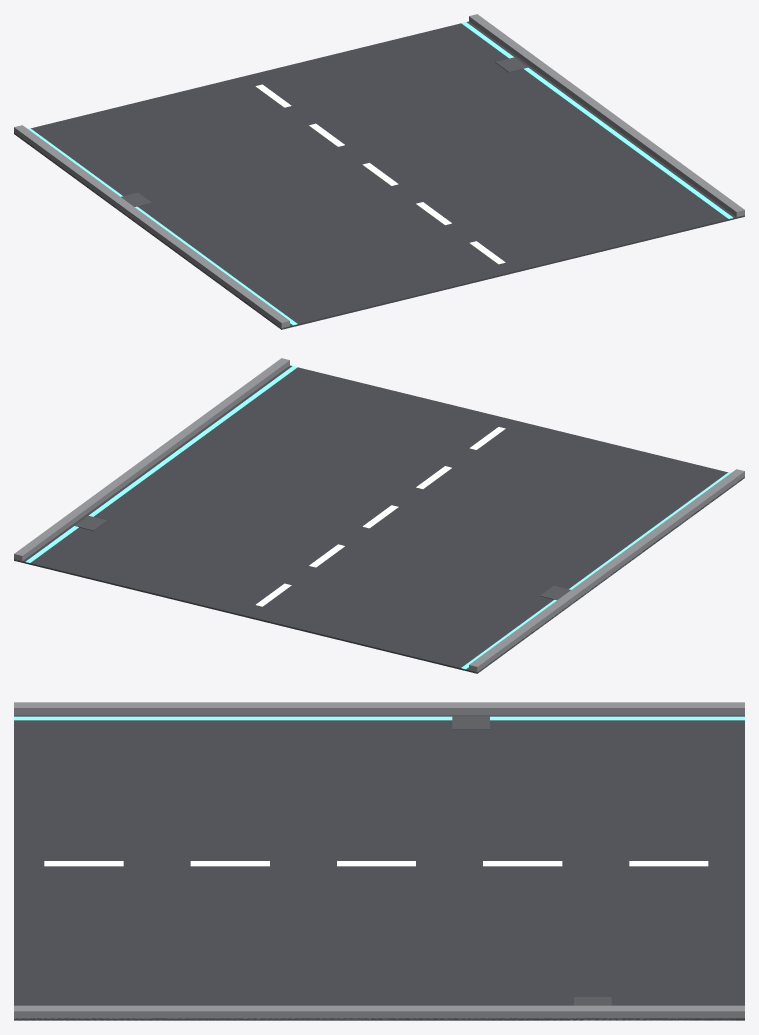
Rendered from road.glb.
3 renders of one model, top to bottom at view 1: azimuth 30°, elevation 25°; view 2: azimuth 150°, elevation 25°; view 3: azimuth 270°, elevation 25°, orthographic. The views are drawn at different scales.
Parts seen in each view (by area): view 1: RoadTile; view 2: RoadTile; view 3: RoadTile.
Part boxes in pixels (left/top/right/bottom): RoadTile: left=14, top=14, right=744, bottom=329; RoadTile: left=14, top=358, right=744, bottom=673; RoadTile: left=14, top=702, right=744, bottom=1020.
Bounding box in the file's own units: 12 × 0.17 × 12.
